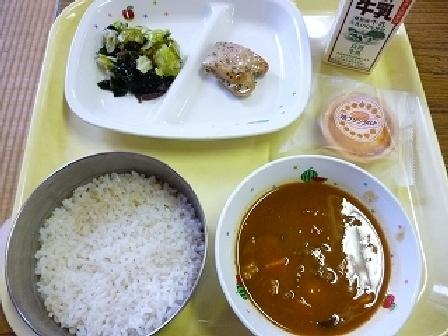Cup desserts: (306, 74, 419, 170)
Curry: (222, 169, 424, 330)
Meat: (200, 21, 280, 104)
Milk: (318, 0, 421, 73)
Rice: (6, 158, 214, 333)
Salad: (71, 2, 181, 100)
